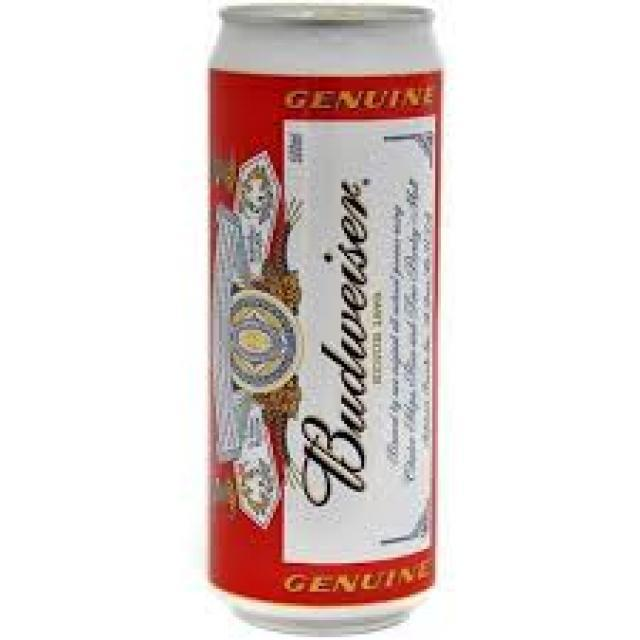recyclable: (210, 4, 442, 632)
